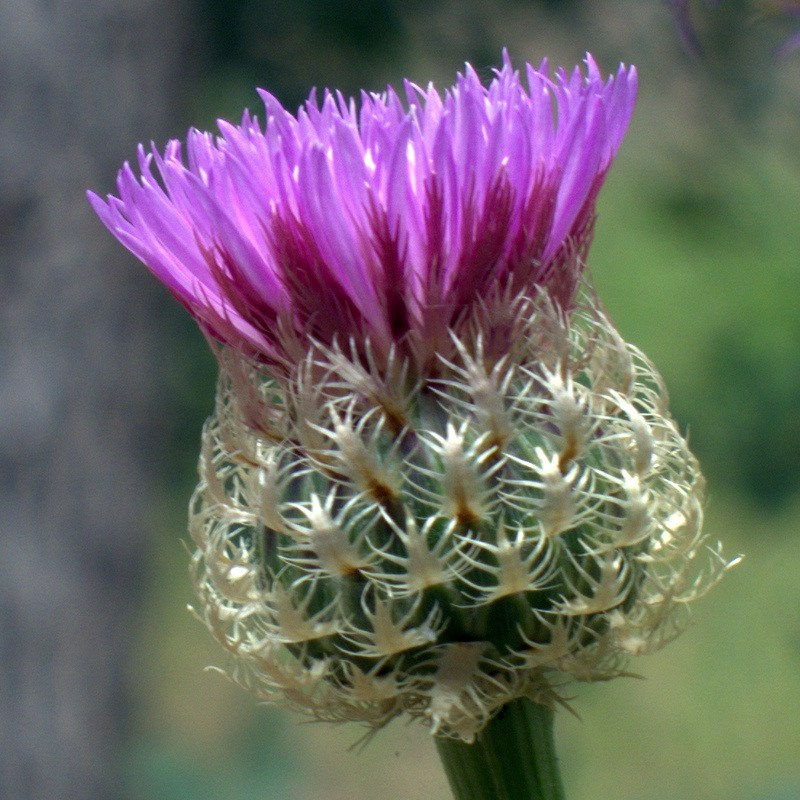thistle: (85, 56, 749, 731)
